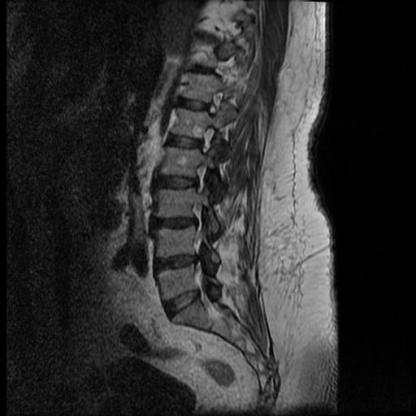Degenerative Disc Diseaserotation: (156, 253, 197, 274)
Disc Bulgerotation: (163, 290, 202, 313), (157, 253, 197, 274), (155, 215, 197, 232), (161, 174, 200, 192), (166, 133, 202, 152)
